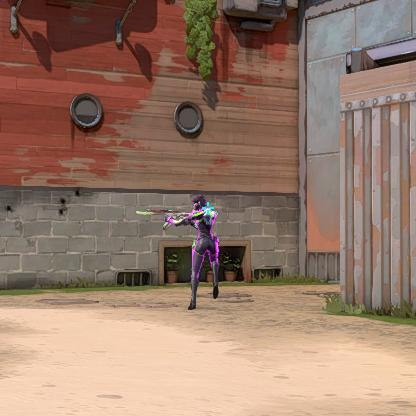enemyBody: (196, 210, 209, 232)
enemyHead: (194, 199, 204, 209)
